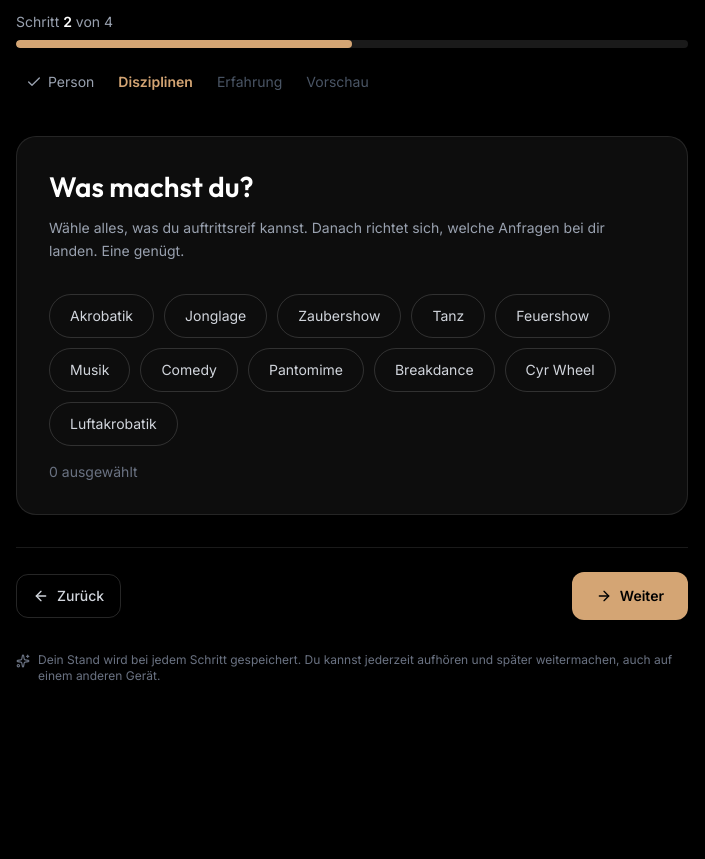
Test: ProfileWizard › markiert in Schritt 3 nicht jedes Feld einzeln als optional
This screenshot has width=705, height=859.
What coordinates should you click on to do the following:
click the button "Jonglage"
I would click on:
 (216, 316)
Its box is [164,294,267,338].
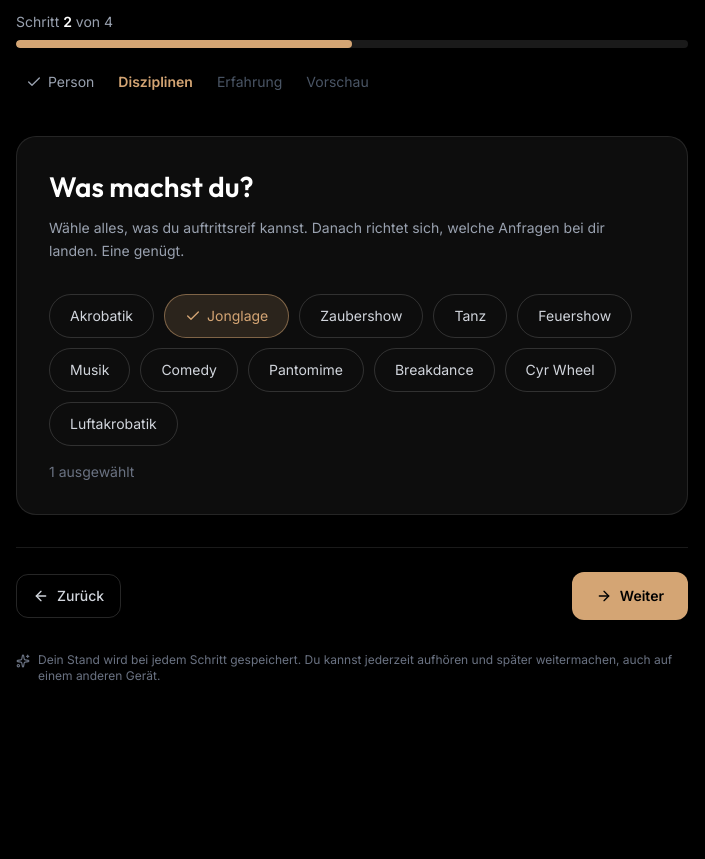
What coordinates should you click on to do the following:
click the button "Weiter"
I would click on:
 (630, 596)
Its box is [572,572,688,620].
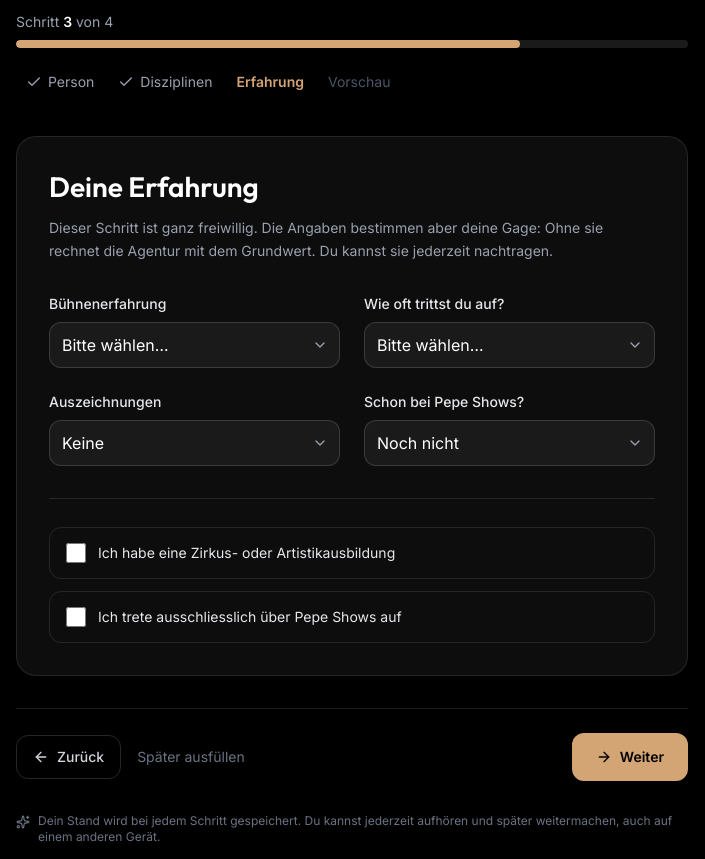
Expected: the heading reads "Deine Erfahrung", [49,169,259,204]
Expected: the text "Dieser Schritt ist ganz freiwillig" is shown, [49,219,603,259]
